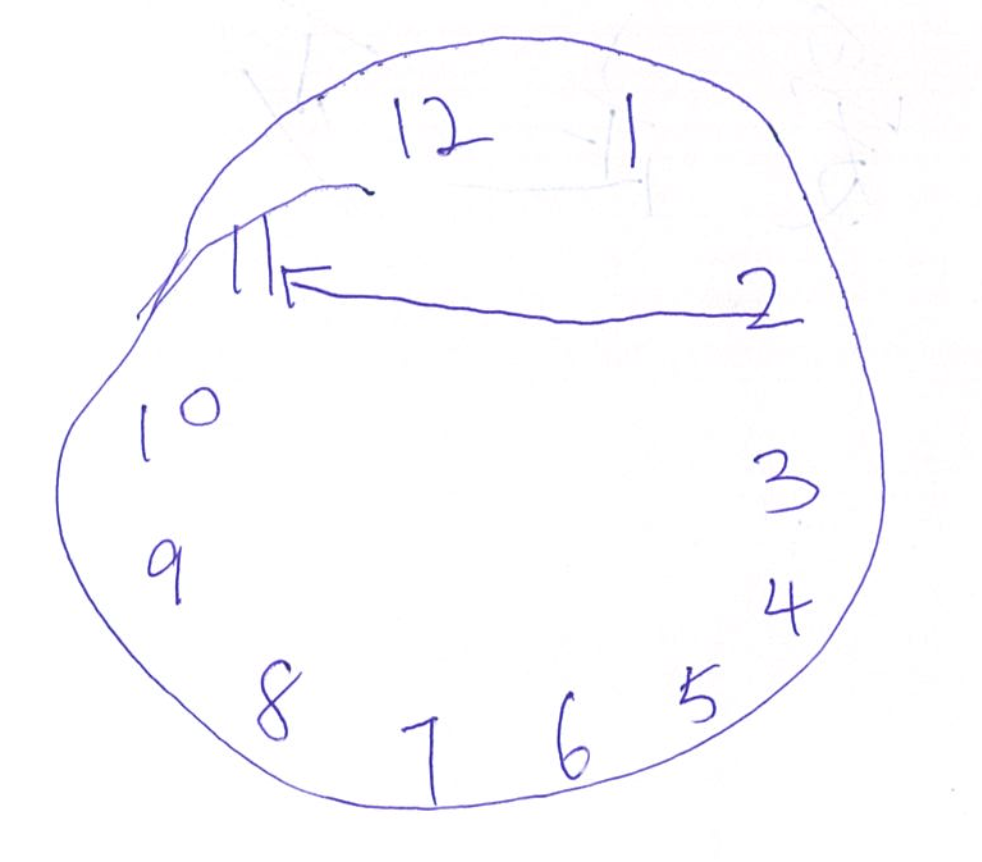1: (610, 82, 646, 178)
10: (131, 383, 228, 470), (226, 208, 281, 303)
12: (384, 90, 499, 161)
2: (730, 263, 812, 334)
3: (743, 442, 825, 520)
4: (761, 568, 815, 644)
5: (672, 657, 728, 733)
6: (546, 681, 602, 781)
7: (396, 713, 449, 809)
8: (255, 655, 304, 747)
9: (142, 533, 191, 612)
contour: (45, 26, 895, 817)
